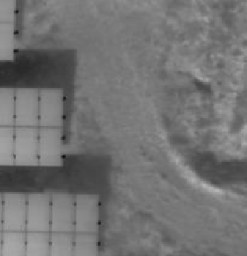solar: (47, 192, 78, 235), (71, 192, 102, 235), (11, 85, 41, 128), (36, 85, 66, 128), (11, 124, 41, 167), (36, 124, 66, 167), (24, 191, 53, 234), (1, 190, 29, 233)
